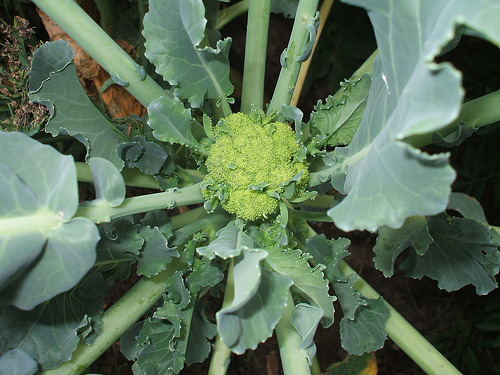broccoli: (199, 112, 312, 222)
